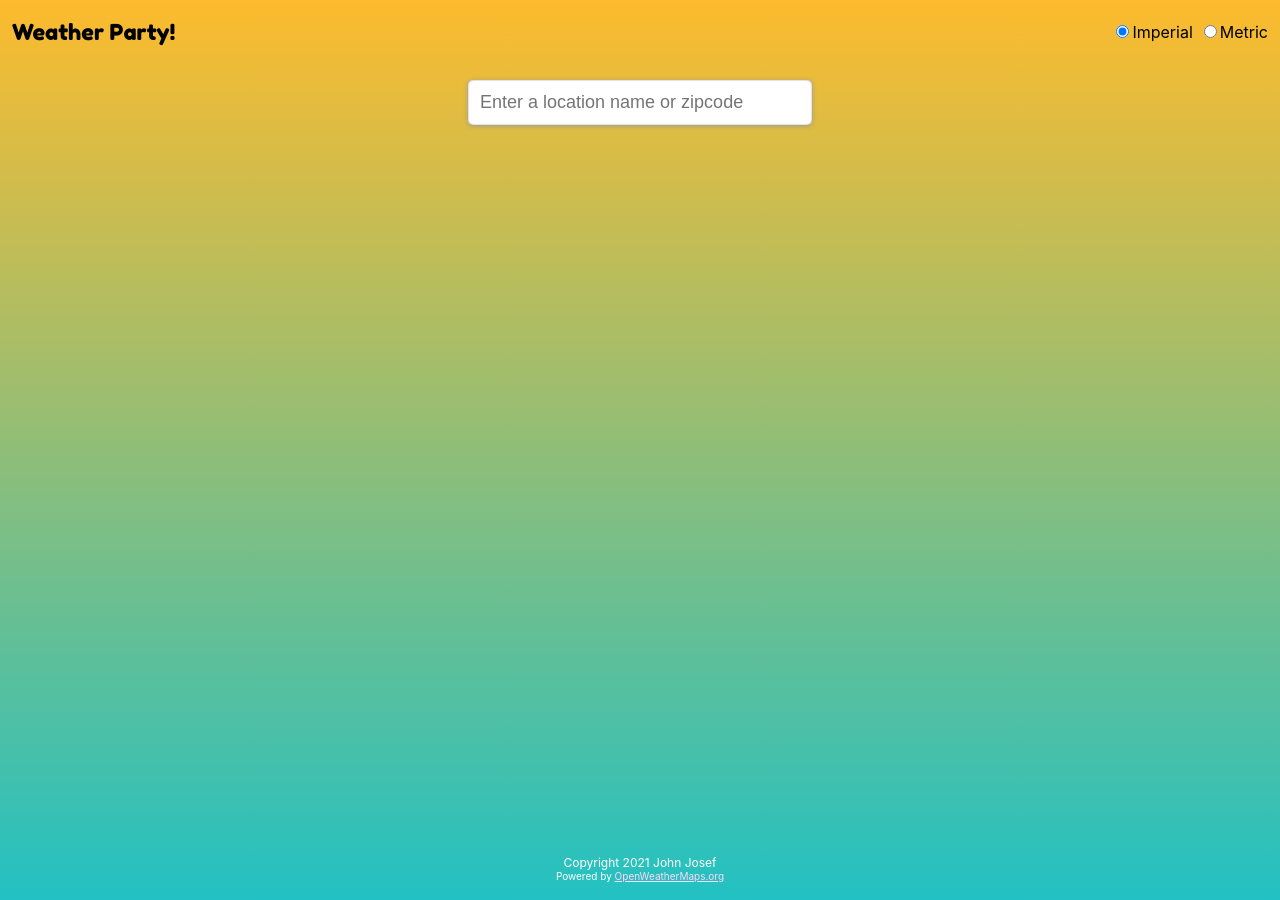
loading weather when openweather returns a bad result
The width and height of the screenshot is (1280, 900).
Step 1. Type "Charleston, SC" into the field labelled "location" → point(640, 102), box [468,80,812,125]
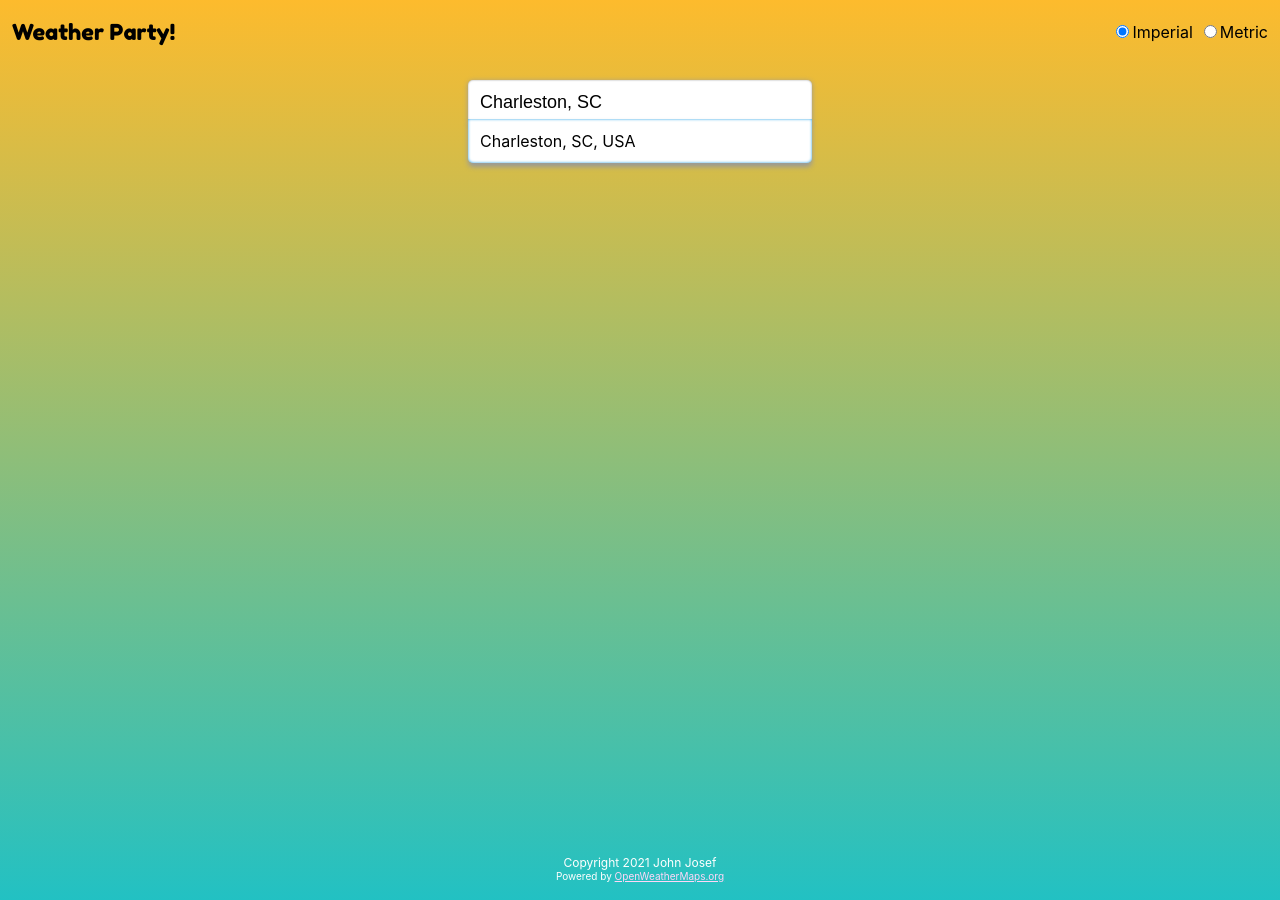
Step 2. Click the text "Charleston, SC, USA" → point(558, 141), box [480,131,636,151]
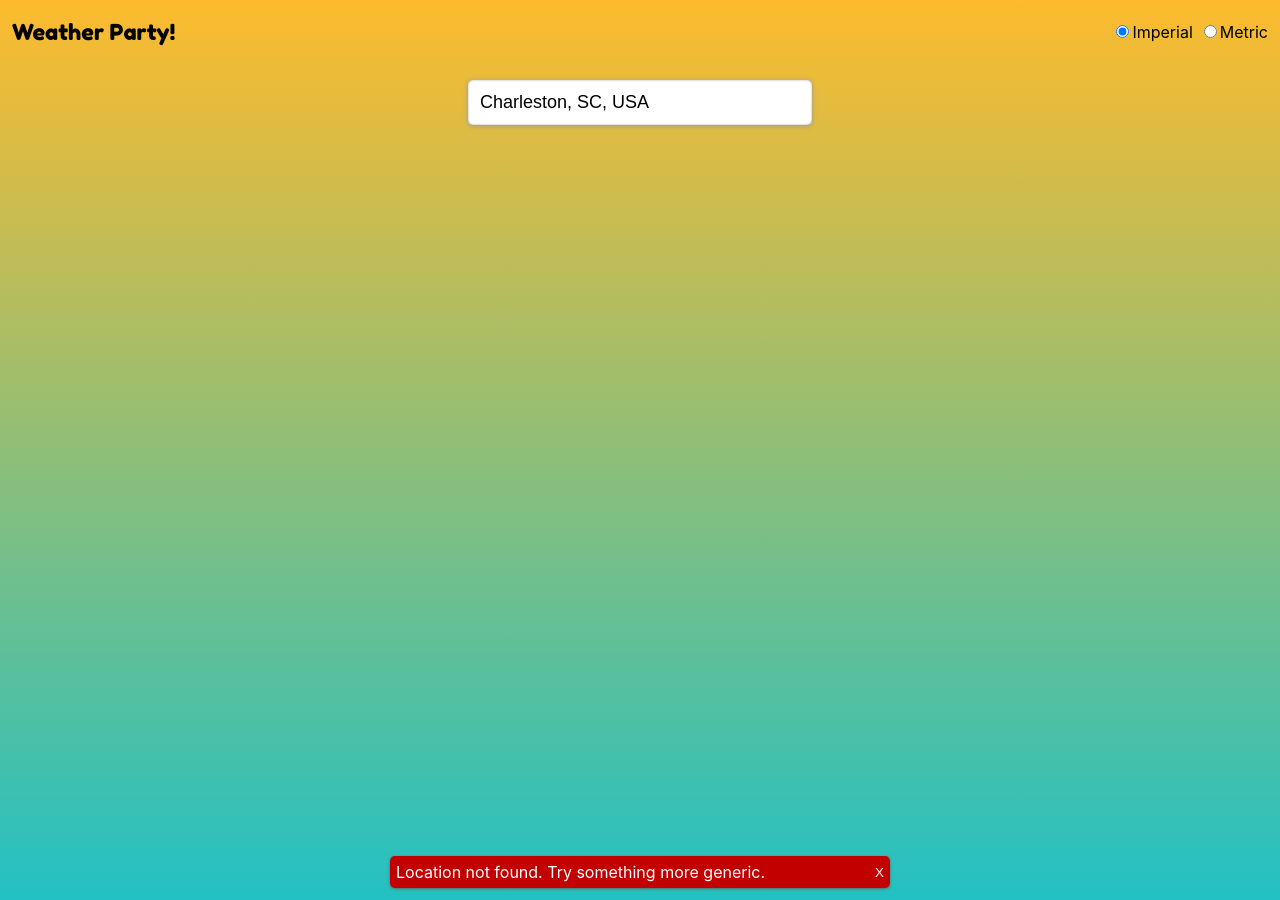
Expected: the text "Location not found. Try something more generic." is shown, [390,856,771,888]
